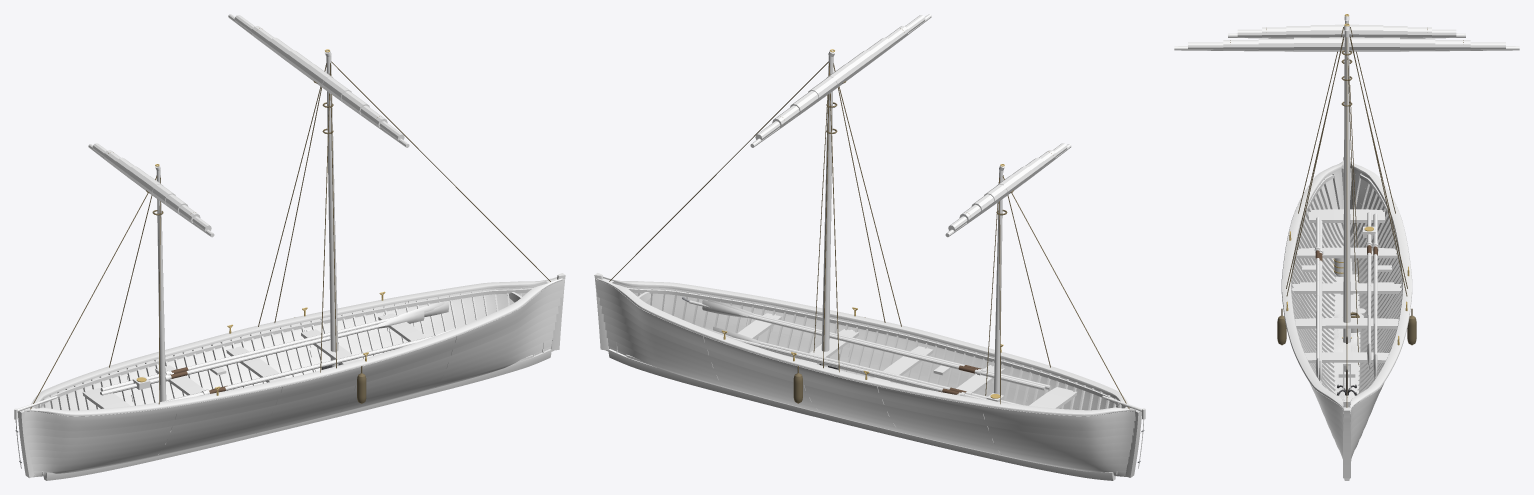
Rendered from boat_complete.glb.
The picture shows the model from 3 angles, left to right: view 1: azimuth 30°, elevation 25°; view 2: azimuth 150°, elevation 25°; view 3: azimuth 270°, elevation 25°; orthographic projection. The views are drawn at different scales.
Visible parts, largest first — view 1: Planking_Clinker, Masts_Yards_Rigging, Keelson_Gunwale, Keel_Stems, Frames, Thwarts_Benches, Structure_Details, Oar_P1, Oar_P2, Oar_S4; view 2: Planking_Clinker, Masts_Yards_Rigging, Keelson_Gunwale, Keel_Stems, Frames, Thwarts_Benches, Structure_Details, Oar_S5, Oar_P2, Oar_P1, Oar_S4; view 3: Masts_Yards_Rigging, Frames, Planking_Clinker, Keelson_Gunwale, Thwarts_Benches, Floorboards, Oar_P2, Oar_P1, Fittings, Oar_S4, Structure_Details, Keel_Stems (+2 smaller).
Part boxes in pixels (x1,y1,x2,y2): Planking_Clinker: [21, 278, 564, 477]; Masts_Yards_Rigging: [30, 14, 550, 409]; Keelson_Gunwale: [24, 277, 562, 416]; Keel_Stems: [17, 273, 565, 480]; Frames: [38, 287, 543, 474]; Thwarts_Benches: [82, 313, 426, 408]; Structure_Details: [40, 288, 532, 407]; Oar_P1: [100, 310, 424, 395]; Oar_P2: [100, 301, 444, 391]; Oar_S4: [163, 328, 455, 401]; Planking_Clinker: [595, 278, 1138, 476]; Masts_Yards_Rigging: [609, 14, 1129, 408]; Keelson_Gunwale: [597, 276, 1135, 416]; Keel_Stems: [594, 273, 1141, 480]; Frames: [616, 287, 1121, 474]; Thwarts_Benches: [737, 313, 1077, 408]; Structure_Details: [627, 288, 1118, 406]; Oar_S5: [702, 300, 1045, 390]; Oar_P2: [698, 326, 998, 401]; Oar_P1: [713, 326, 1021, 404]; Oar_S4: [707, 299, 1051, 389]; Masts_Yards_Rigging: [1174, 14, 1519, 407]; Frames: [1291, 168, 1402, 394]; Planking_Clinker: [1291, 167, 1402, 458]; Keelson_Gunwale: [1281, 160, 1412, 412]; Thwarts_Benches: [1292, 209, 1401, 362]; Floorboards: [1333, 274, 1360, 400]; Oar_P2: [1372, 213, 1378, 379]; Oar_P1: [1366, 212, 1372, 371]; Fittings: [1320, 226, 1375, 395]; Oar_S4: [1314, 217, 1320, 379]; Structure_Details: [1291, 174, 1402, 407]; Keel_Stems: [1342, 156, 1351, 480].
Size of the model in its own units: 8.31 by 5.33 by 4.65.
